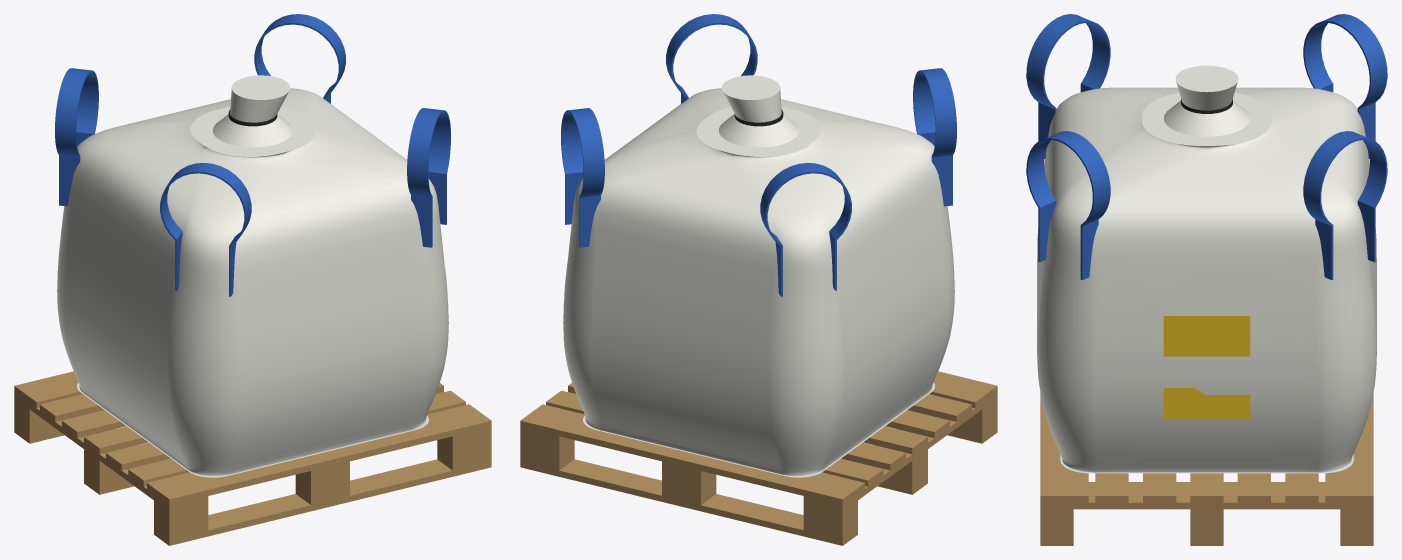
The model's file is bulk-bag-concrete-on-pallet.glb.
3 renders of one model, left to right at view 1: azimuth 30°, elevation 25°; view 2: azimuth 150°, elevation 25°; view 3: azimuth 270°, elevation 25°, orthographic. The views are drawn at different scales.
Visible parts, largest first — view 1: bag_body, pallet_1200x1000, lift_loop_0; view 2: bag_body, pallet_1200x1000, lift_loop_0; view 3: bag_body, pallet_1200x1000, lift_loop_0, document_pocket.
Boxes of the visible parts, x1,y1,x2,y2 form: bag_body: (57,75,448,477); pallet_1200x1000: (14,371,491,545); lift_loop_0: (55,14,450,296); bag_body: (563,75,954,477); pallet_1200x1000: (520,371,997,545); lift_loop_0: (561,14,956,296); bag_body: (1037,65,1376,473); pallet_1200x1000: (1040,393,1373,545); lift_loop_0: (1026,14,1387,280); document_pocket: (1163,315,1250,418).
Size of the model in its own units: 1.2 by 1.28 by 1.08.
